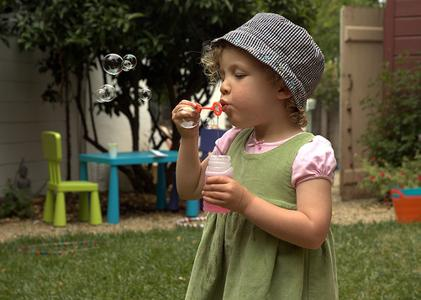person: (166, 13, 345, 300)
